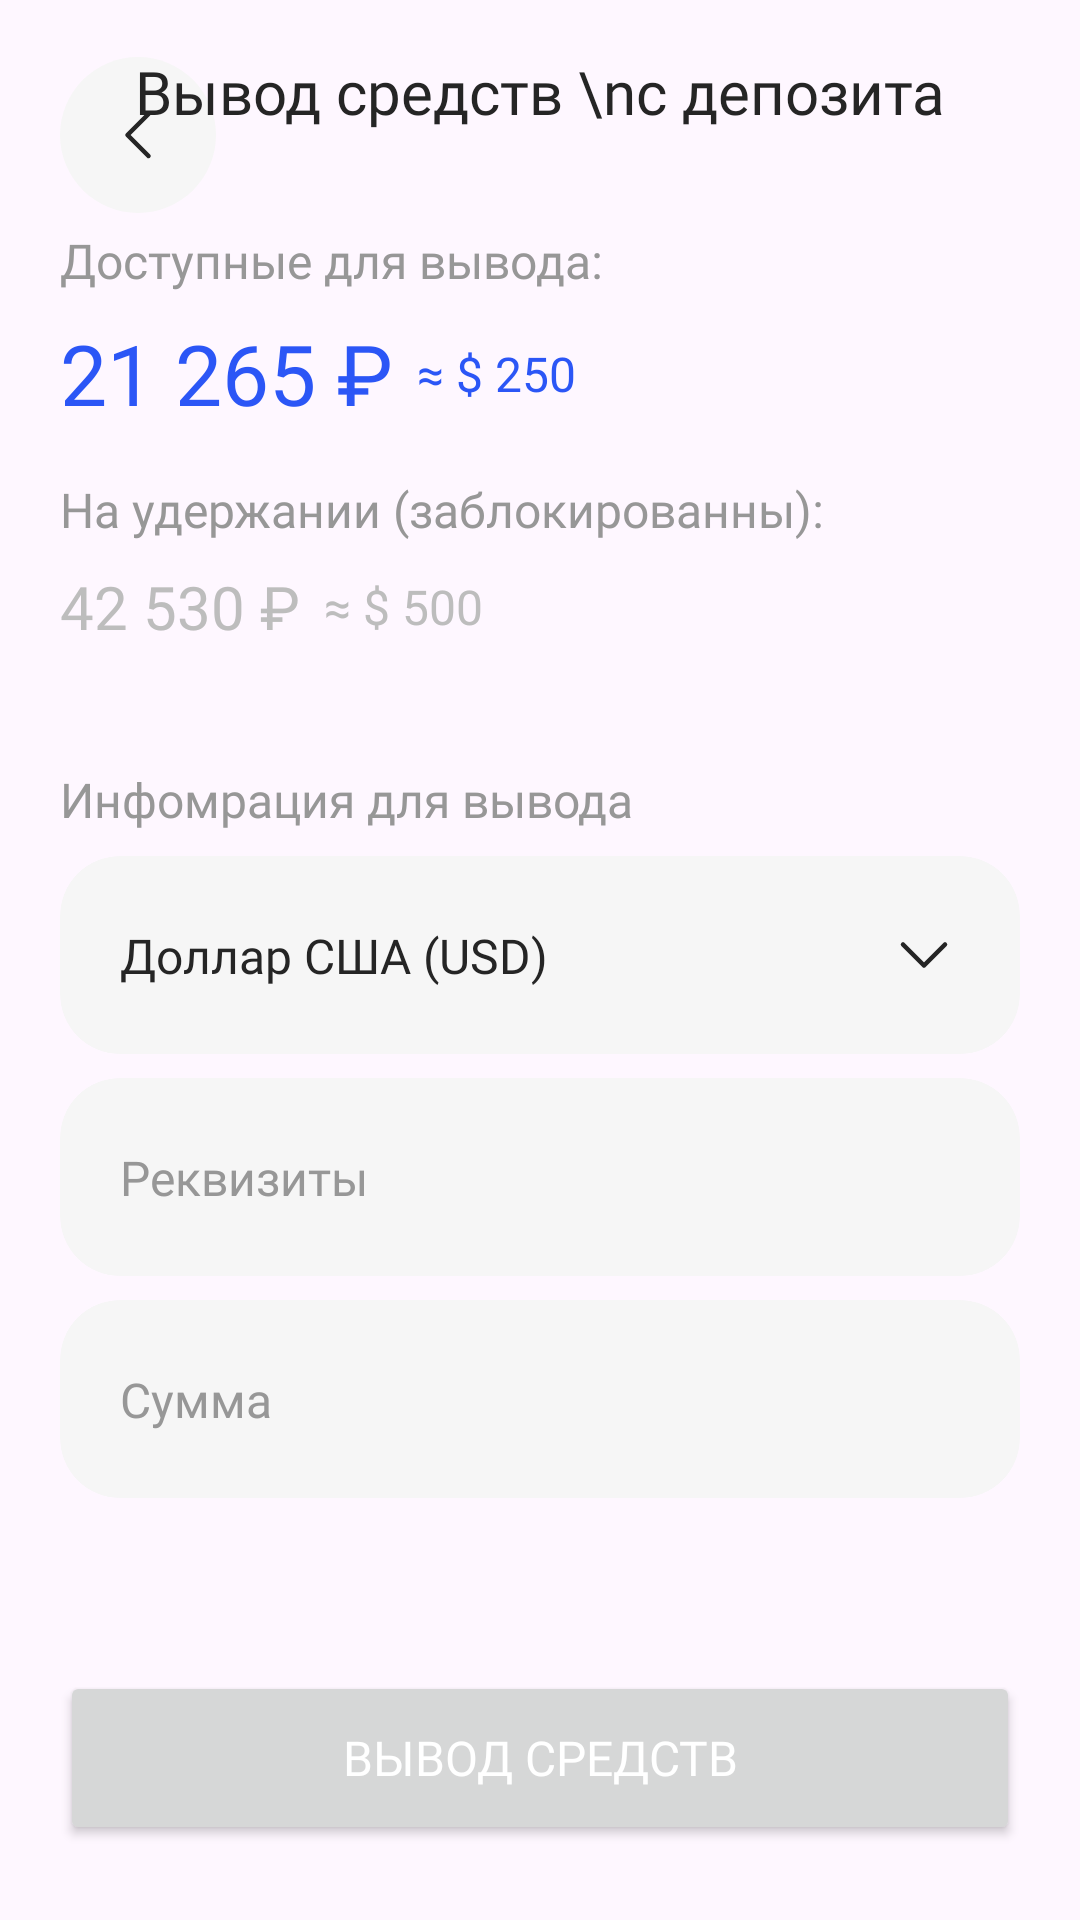

Screen size 1080x1920. Icon name, then its box in pixels as (x1, y1, x2, y2):
arrow down: (900, 942, 948, 968)
